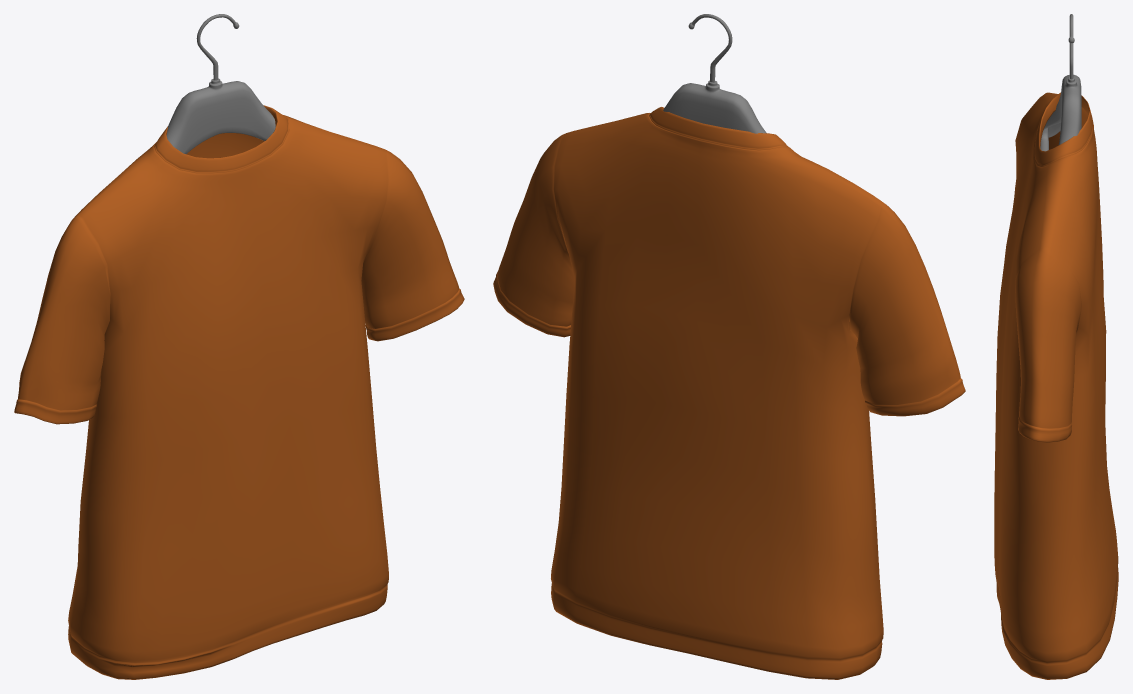
The model's file is outfit12.glb.
The picture shows the model from 3 angles, left to right: view 1: azimuth 30°, elevation 25°; view 2: azimuth 150°, elevation 25°; view 3: azimuth 270°, elevation 25°; orthographic projection. The views are drawn at different scales.
Parts seen in each view (by area): view 1: Object_7, Object_11, Object_9; view 2: Object_7, Object_11; view 3: Object_7, Object_11.
Boxes of the visible parts, x1,y1,x2,y2 form: Object_7: (14,105,464,679); Object_11: (166,14,275,153); Object_9: (184,113,264,154); Object_7: (493,107,965,679); Object_11: (663,14,766,133); Object_7: (994,92,1118,679); Object_11: (1040,14,1081,151).
Size of the model in its own units: 1205 by 1568 by 297.
